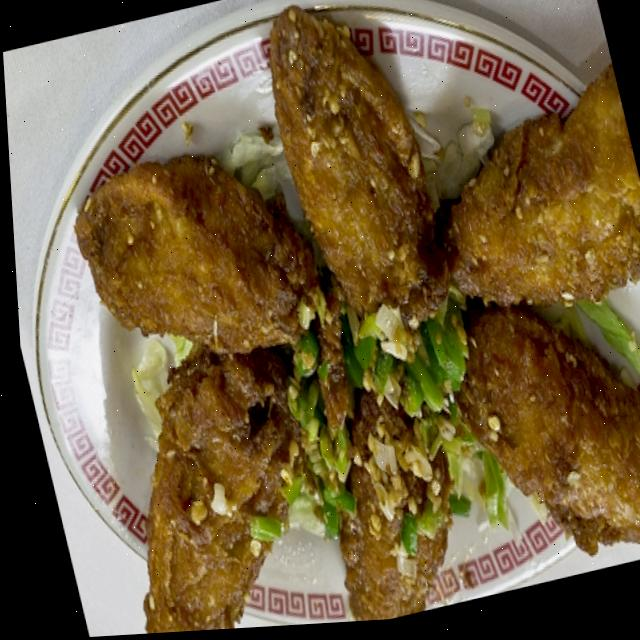鸡肉料理 含炸鸡: (30, 27, 640, 639)
